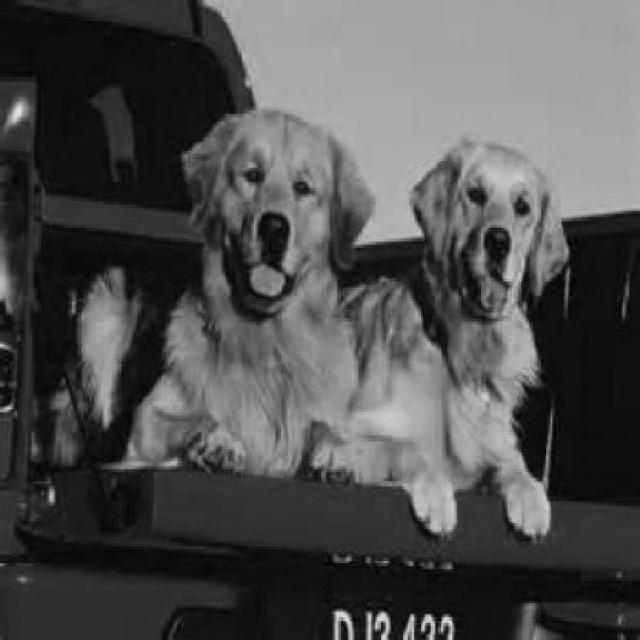Dog: (56, 113, 398, 485), (360, 117, 588, 540)
